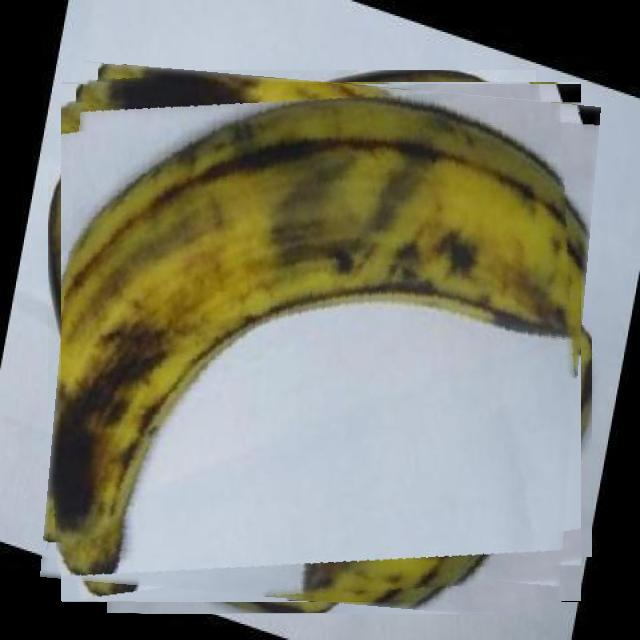Execivamente Madura: (51, 72, 591, 612)
